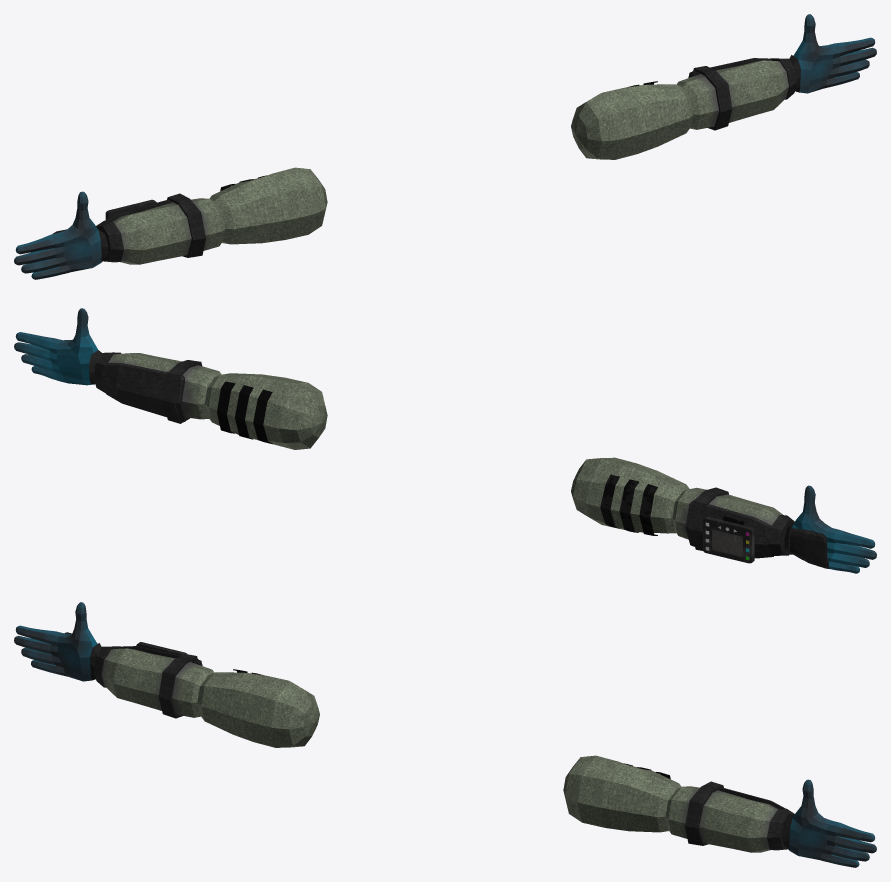
Rendered from BomberArmModel_materials.fbx.
The picture shows the model from 3 angles, top to bottom: view 1: azimuth 30°, elevation 25°; view 2: azimuth 150°, elevation 25°; view 3: azimuth 330°, elevation 25°; orthographic projection.
Parts seen in each view (by area): view 1: arm.lower.L, arm.upper.R, arm.lower.R, arm.upper.L, hand.R, hand.L; view 2: arm.upper.R, arm.upper.L, arm.lower.L, arm.lower.R, hand.L, hand.R, strips.R, strips.L, hand.brace.R; view 3: arm.lower.R, arm.lower.L, arm.upper.L, arm.upper.R, hand.L, hand.R.
Boxes of the visible parts, box(x1,y1,x2,y2) form: arm.lower.L: box(571, 84, 693, 159); arm.upper.R: box(96, 193, 225, 264); arm.lower.R: box(209, 167, 327, 244); arm.upper.L: box(677, 58, 796, 130); hand.R: box(14, 191, 108, 279); hand.L: box(789, 14, 876, 93); arm.upper.R: box(672, 487, 794, 563); arm.upper.L: box(93, 352, 221, 423); arm.lower.L: box(205, 373, 327, 449); arm.lower.R: box(571, 457, 689, 533); hand.L: box(14, 308, 102, 385); hand.R: box(784, 485, 876, 573); strips.R: box(600, 474, 657, 535); strips.L: box(217, 381, 272, 444); hand.brace.R: box(790, 528, 828, 568); arm.lower.R: box(197, 672, 319, 747); arm.lower.L: box(563, 755, 681, 832); arm.upper.L: box(665, 781, 794, 852); arm.upper.R: box(94, 642, 213, 718); hand.L: box(782, 779, 876, 867); hand.R: box(14, 602, 101, 681).
Size of the model in its own units: 5983 by 610 by 462.
